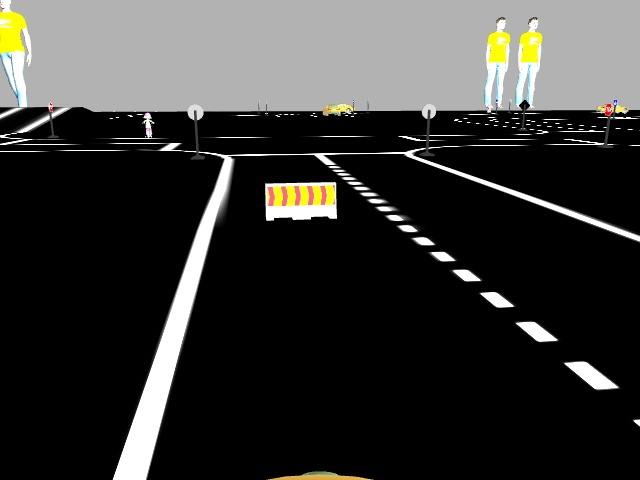ClosedRoadStand: (264, 183, 335, 218)
